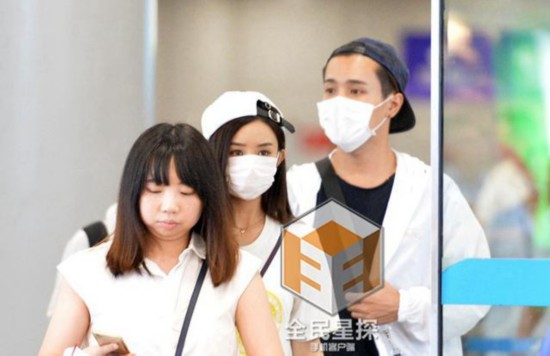face: (141, 167, 201, 236)
face_mask: (320, 53, 383, 150), (225, 123, 278, 200)
